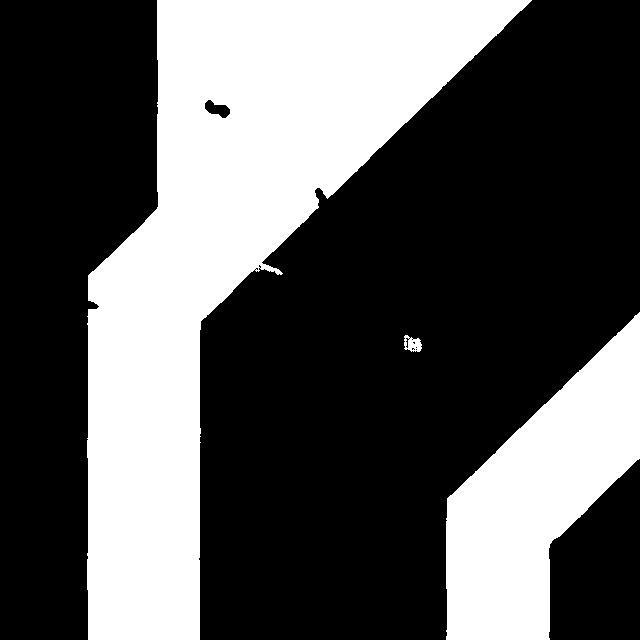copper: (195, 90, 239, 127)
mousebite: (241, 251, 292, 284)
pin-hole: (394, 325, 431, 361)
spur: (305, 178, 337, 216), (73, 291, 108, 318)
